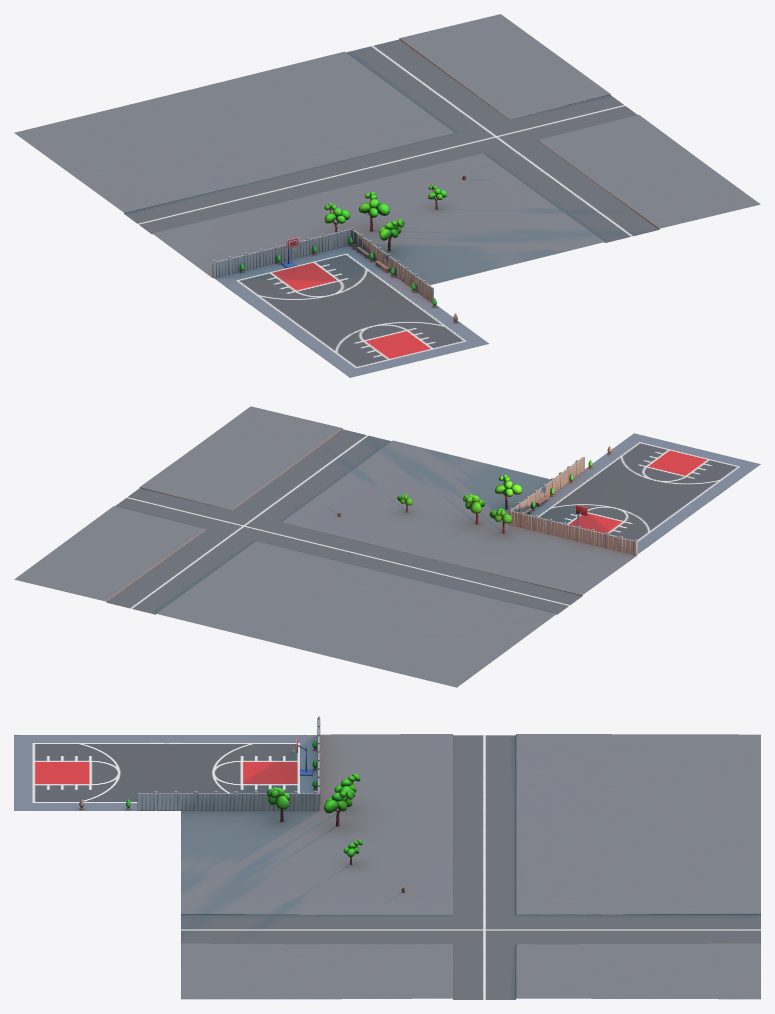
Rendered from Pitch 1_Baked.fbx.
3 views of the same model, one above another, from view 1: azimuth 30°, elevation 25°; view 2: azimuth 150°, elevation 25°; view 3: azimuth 270°, elevation 25° (orthographic). The views are drawn at different scales.
Parts seen in each view (by area): view 1: Basketball_Court_1; view 2: Basketball_Court_1; view 3: Basketball_Court_1.
Boxes of the visible parts, x1,y1,x2,y2 form: Basketball_Court_1: (14,14,760,377); Basketball_Court_1: (14,406,760,687); Basketball_Court_1: (14,716,760,999).
Size of the model in its own units: 67.14 by 4.53 by 80.07.
